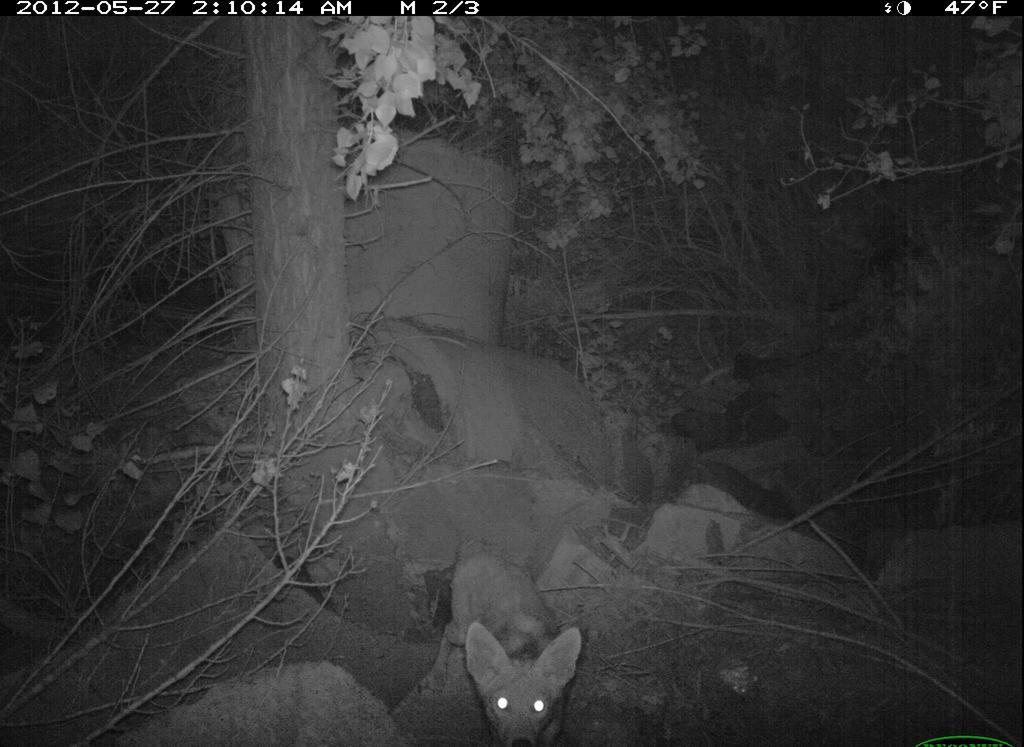coyote: (443, 539, 589, 747)
